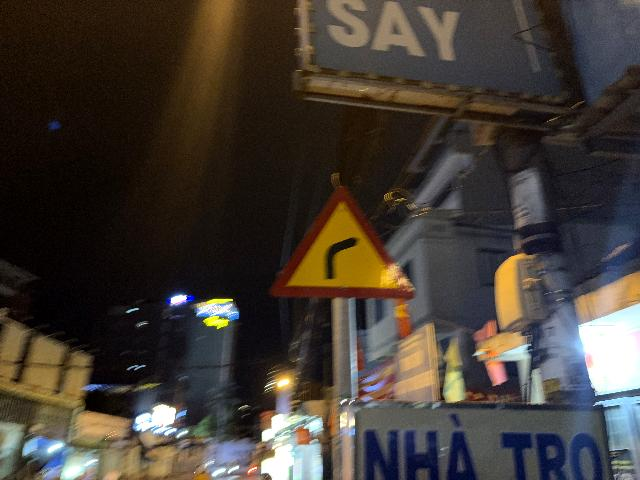cho-ngoat-nguy-hiem-ben-phai: (268, 181, 417, 301)
